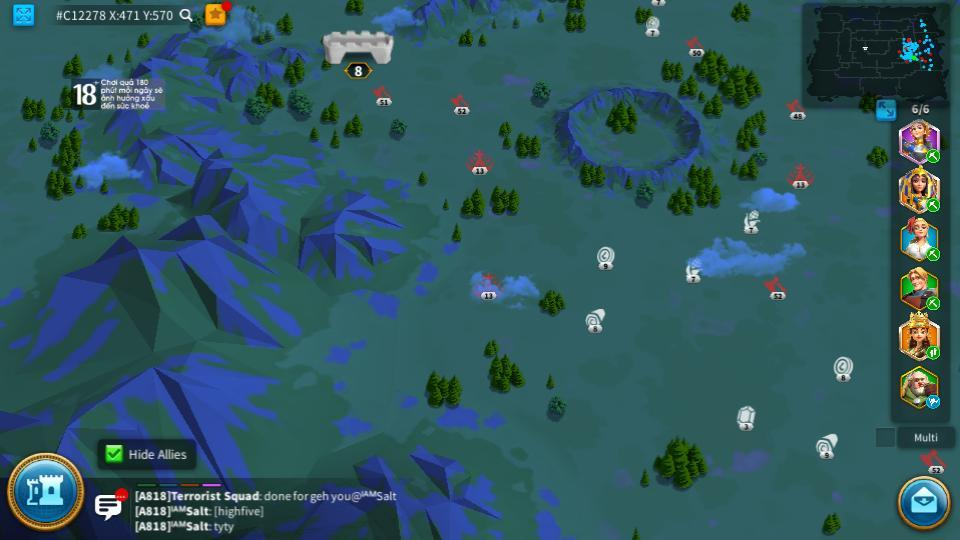gem-z-out: (735, 406, 755, 429), (596, 245, 615, 268)
march_idle: (925, 396, 942, 408)
march_marching: (925, 197, 941, 212), (925, 150, 942, 162), (925, 297, 942, 309), (925, 347, 941, 359)
